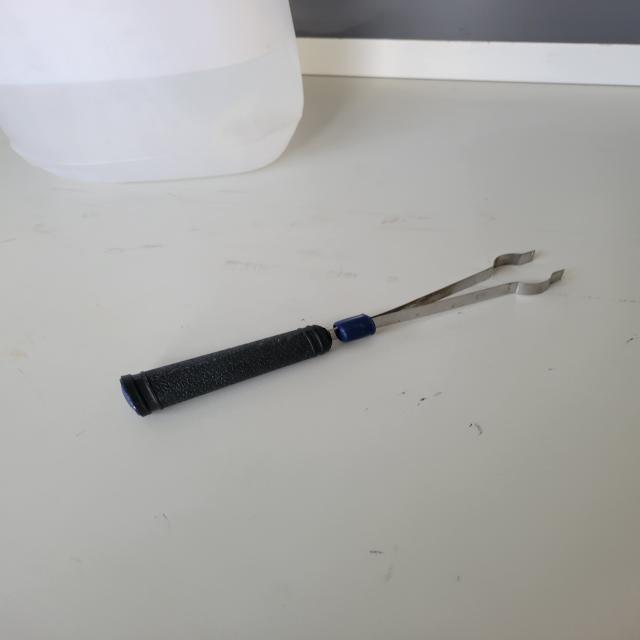TestTube_Holder: (87, 211, 595, 465)
